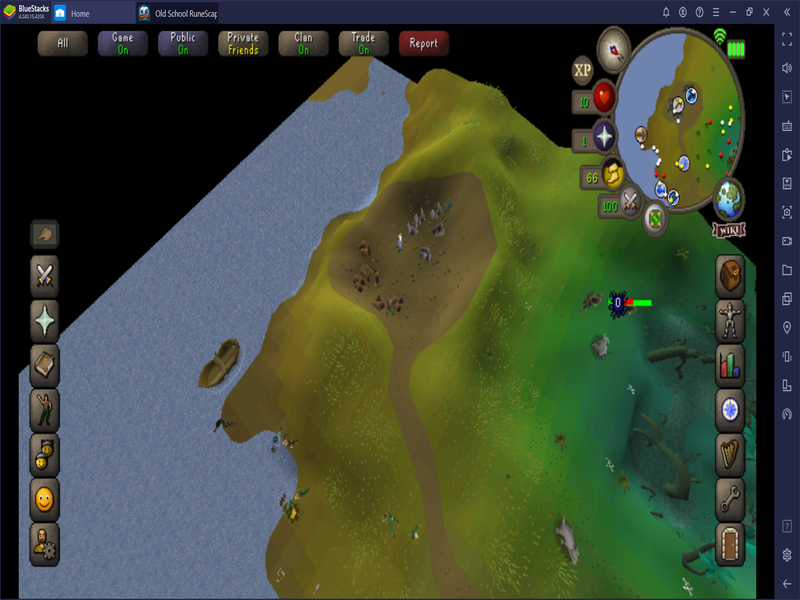copper_rock_1: (388, 294, 406, 313)
copper_rock_2: (371, 292, 387, 314)
